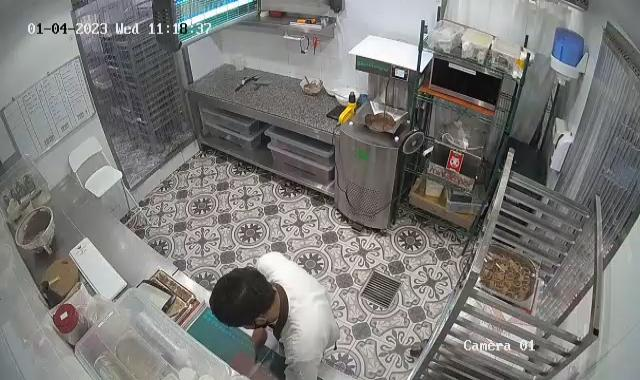no_hairnet: (208, 267, 275, 327)
